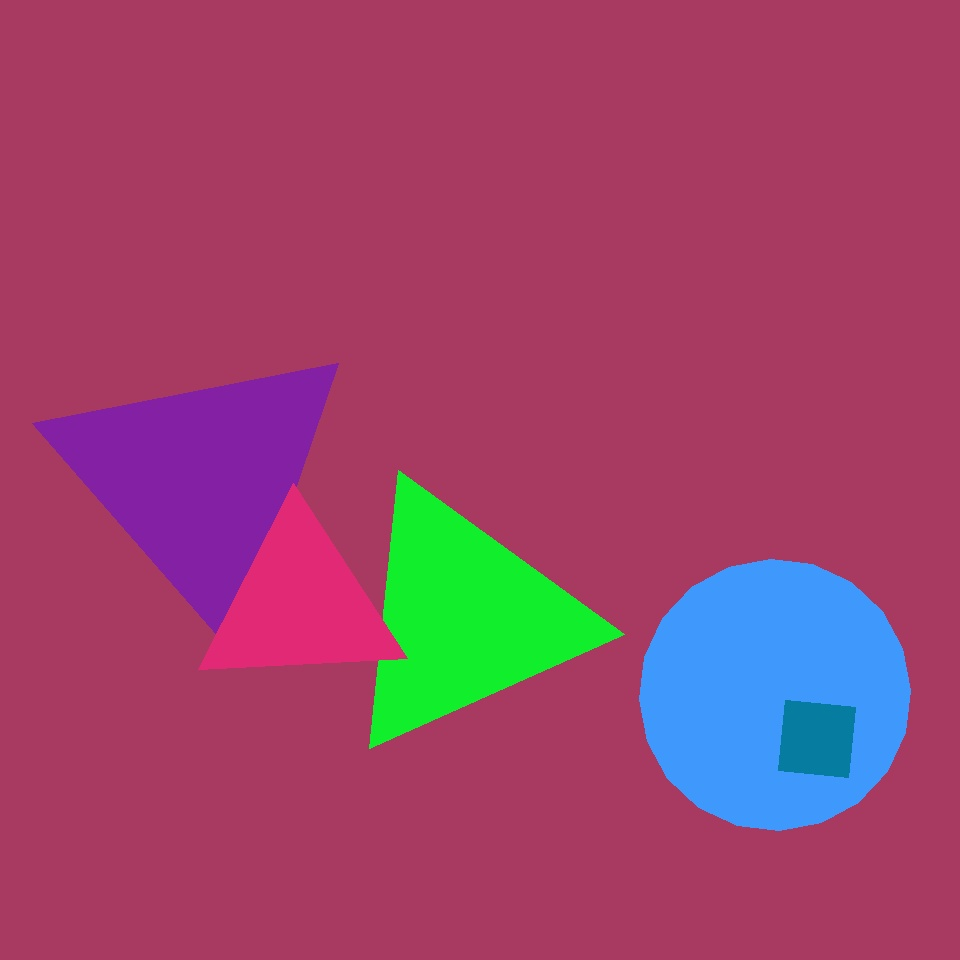circle: (50, 334, 356, 630), (579, 180, 838, 457), (336, 479, 592, 757), (196, 511, 404, 697)
square: (671, 498, 842, 669), (778, 700, 856, 778)
triangle: (640, 560, 910, 830)
